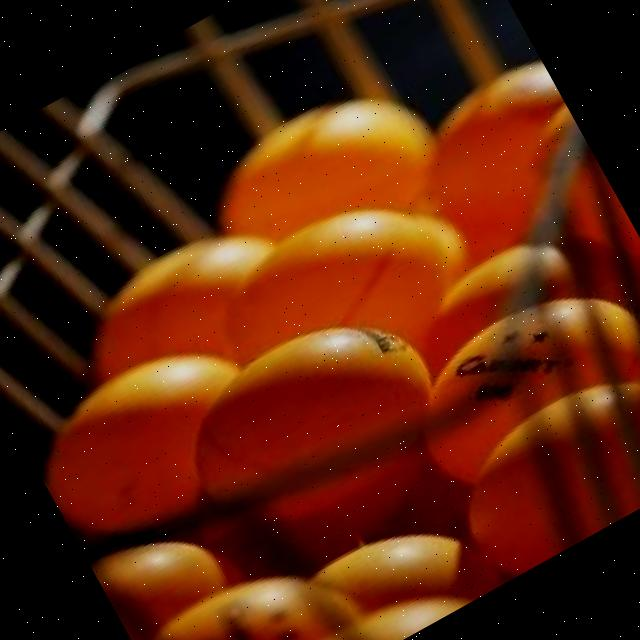ping-pong-ball: (168, 293, 462, 553), (16, 320, 292, 571), (392, 257, 640, 509)
